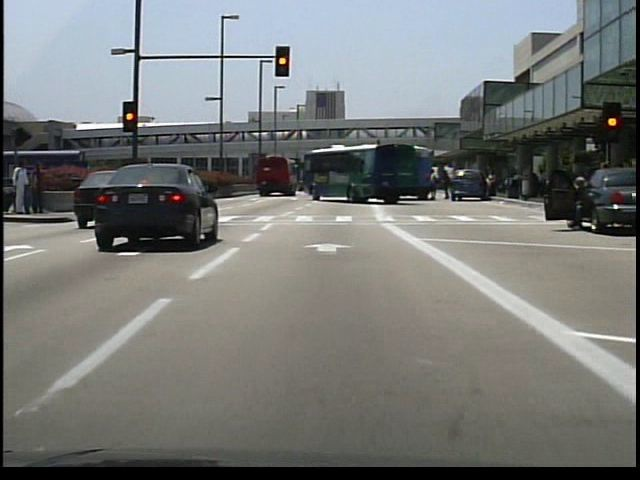person: (563, 172, 595, 233), (12, 160, 33, 214), (30, 162, 48, 220), (438, 167, 452, 204), (424, 167, 438, 202), (483, 169, 495, 200)
